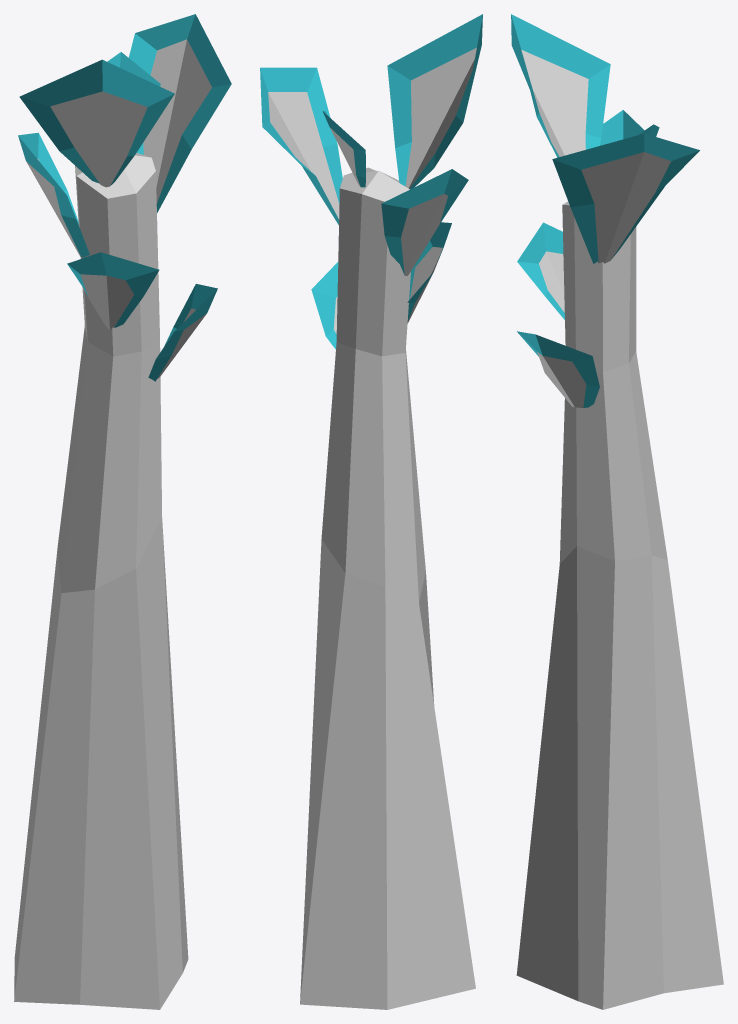
The model's file is scifi-tree-crown-small.fbx.
3 renders of one model, left to right at view 1: azimuth 30°, elevation 25°; view 2: azimuth 150°, elevation 25°; view 3: azimuth 270°, elevation 25°, orthographic. The views are drawn at different scales.
Parts seen in each view (by area): view 1: scifi-tree-crown-small; view 2: scifi-tree-crown-small; view 3: scifi-tree-crown-small.
Boxes of the visible parts, x1,y1,x2,y2 form: scifi-tree-crown-small: (14,14,231,1009); scifi-tree-crown-small: (260,14,482,1009); scifi-tree-crown-small: (511,14,723,1009).
Bounding box in the file's own units: 0.5234 × 2.38 × 0.493.
